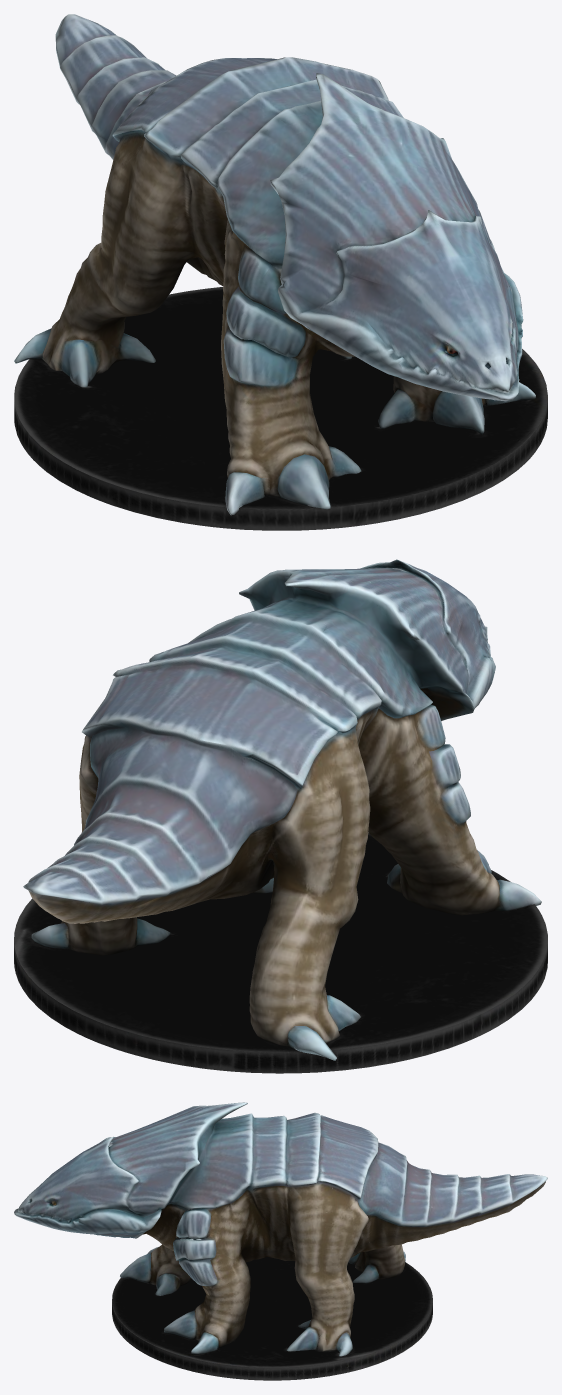
File: MZ4250 - Bulette.glb
3 views of the same model, one above another, from view 1: azimuth 30°, elevation 25°; view 2: azimuth 150°, elevation 25°; view 3: azimuth 270°, elevation 25° (orthographic). The views are drawn at different scales.
Parts seen in each view (by area): view 1: body_low.001, base_low.001; view 2: body_low.001, base_low.001; view 3: body_low.001, base_low.001.
Part boxes in pixels (<box>): body_low.001: <box>14,14,535,515</box>; base_low.001: <box>14,287,547,530</box>; body_low.001: <box>23,559,541,1060</box>; base_low.001: <box>14,833,547,1073</box>; body_low.001: <box>14,1102,547,1356</box>; base_low.001: <box>112,1257,432,1380</box>.
Size of the model in its own units: 7.15 by 5.27 by 11.9.
1 material, 1 textured.
